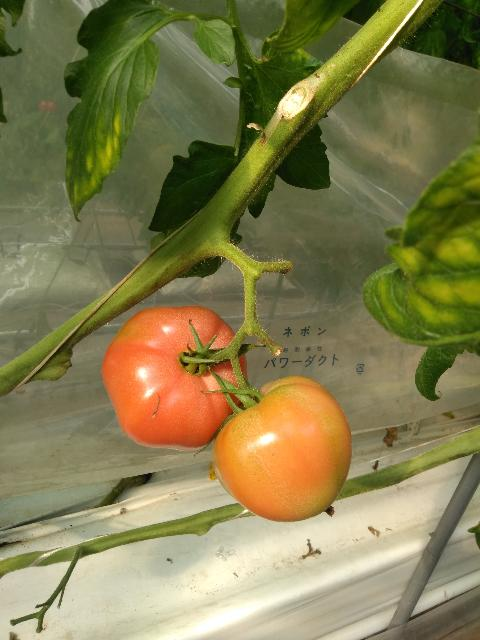b_half_ripened: (101, 305, 251, 452), (212, 376, 353, 522)
